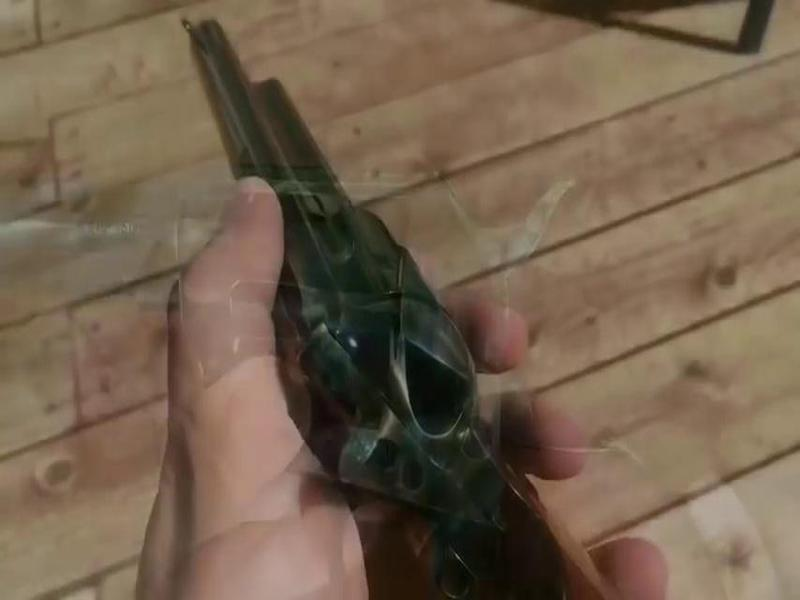Revolver: (168, 14, 549, 600)
